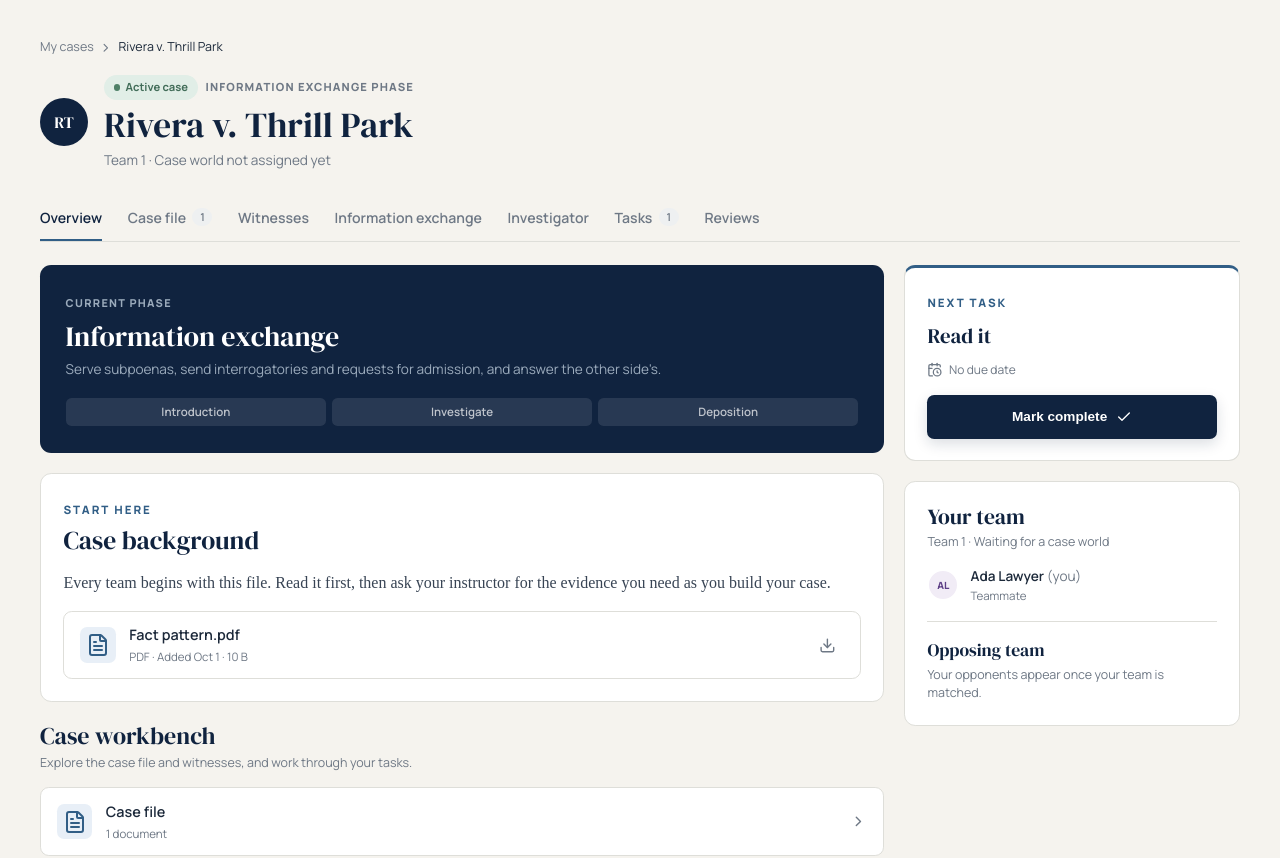
Test: StudentCasePage: review results › drafts › saves a new set as a draft and lists it for the team
The width and height of the screenshot is (1280, 858).
Click the tab "Information exchange" at (408, 218), box left=335, top=196, right=482, bottom=241
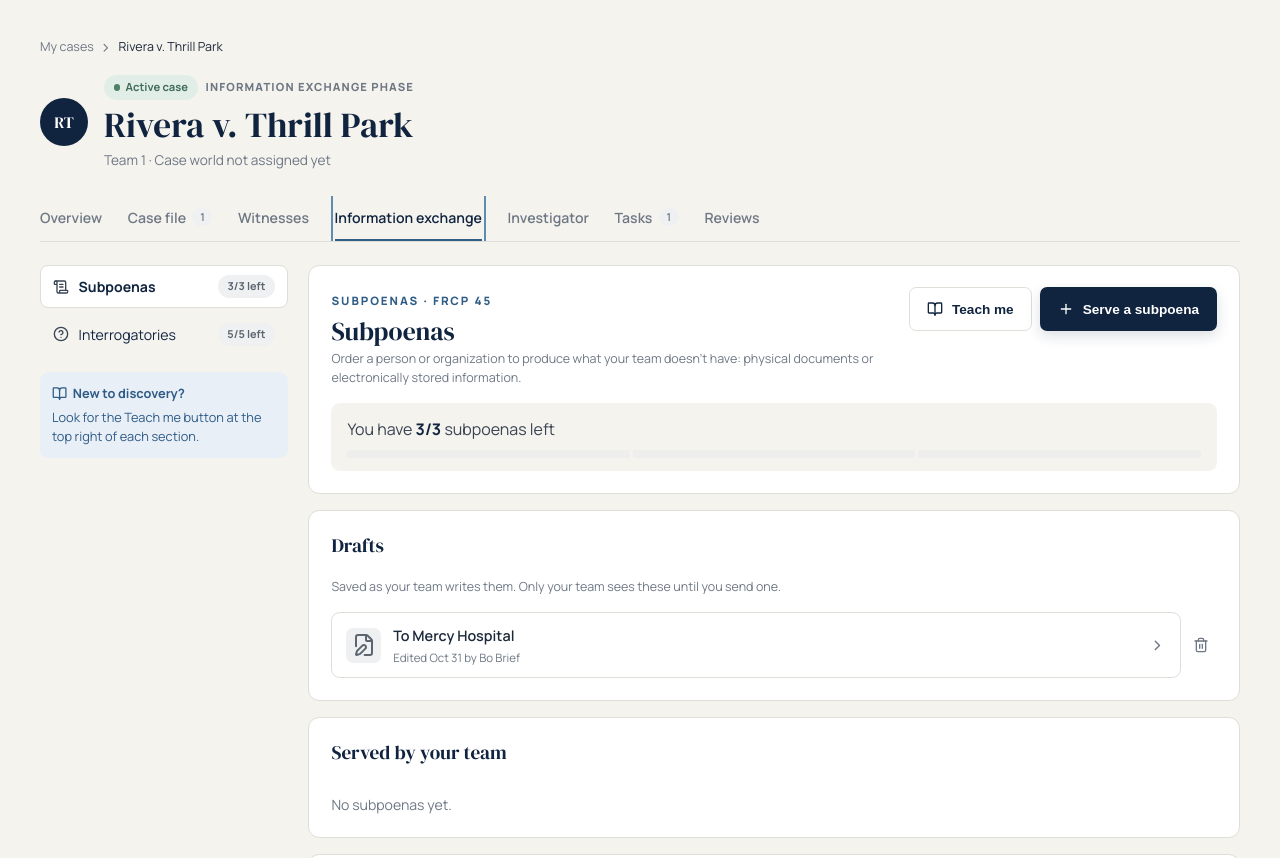
Click the button "Interrogatories 5/5 left" at (164, 334), box left=40, top=312, right=288, bottom=356
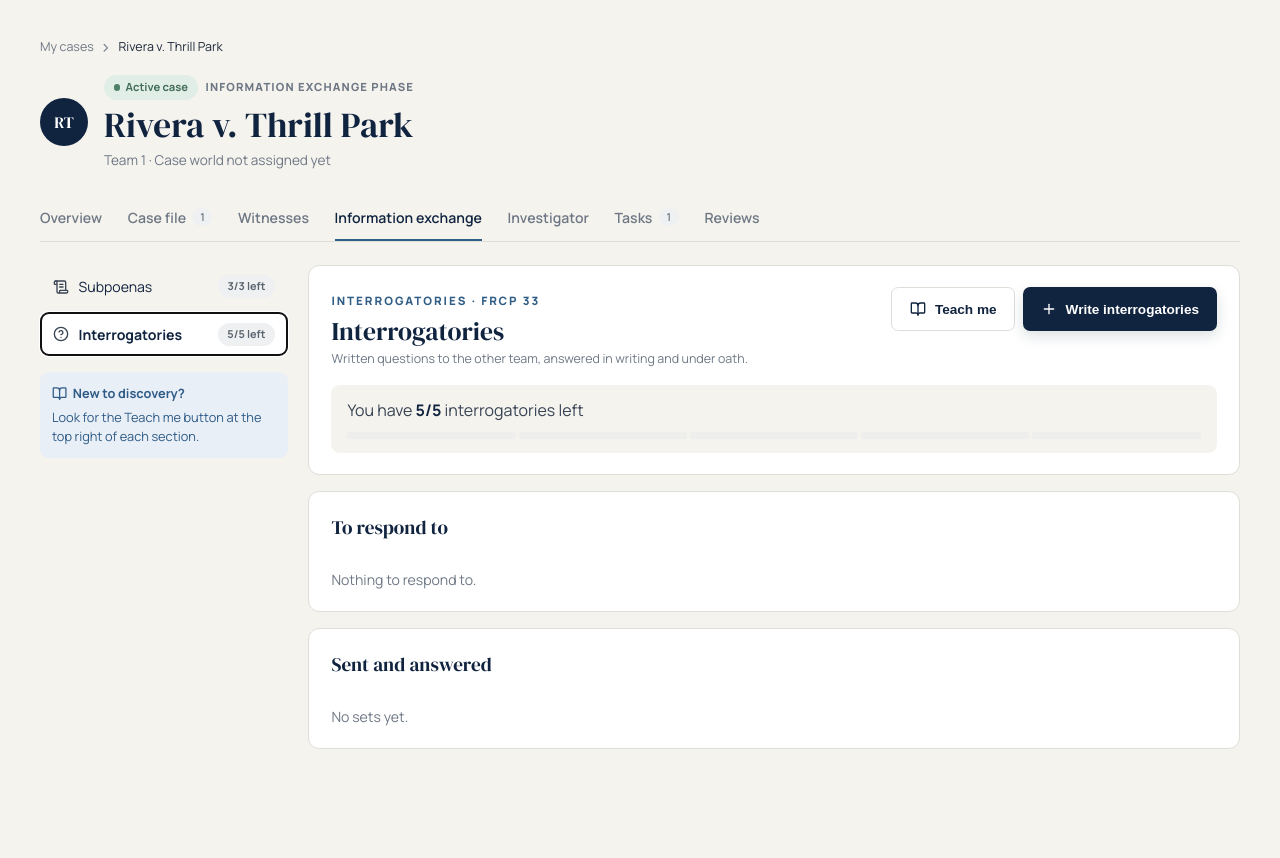
Click the button "Write interrogatories" at (1120, 309), box left=1023, top=287, right=1217, bottom=331
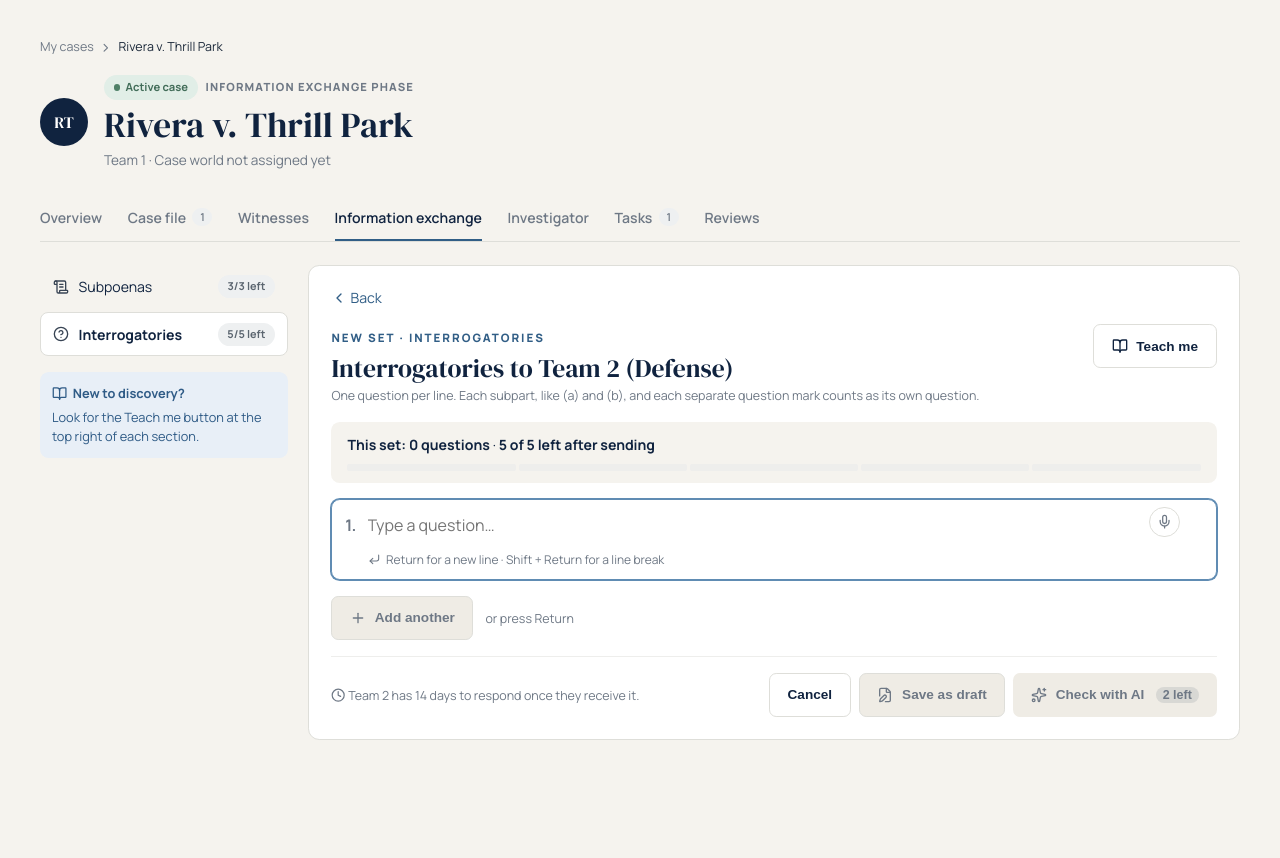
Type "Who inspected it?" into the text box named "Question 1" at (785, 525), box left=368, top=510, right=1203, bottom=539
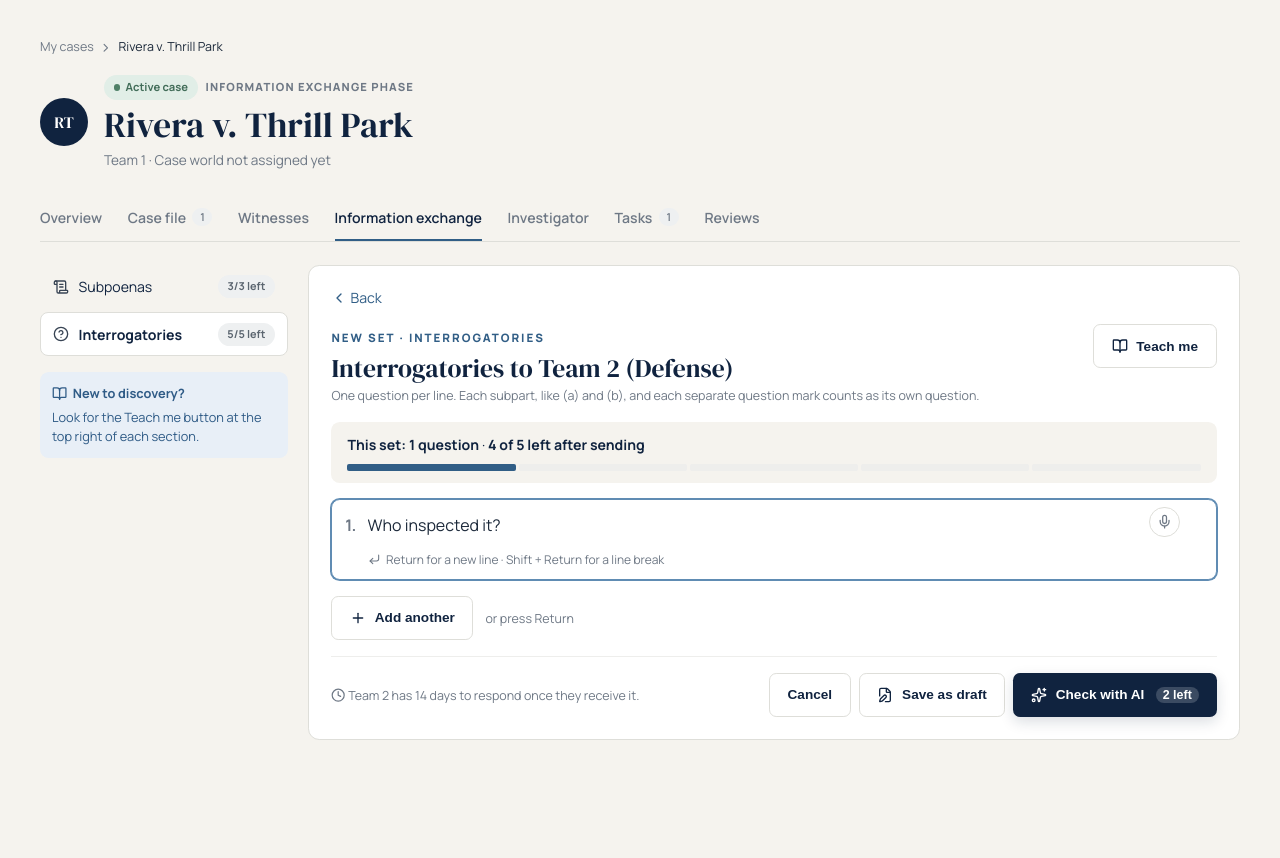
Click the button "Save as draft" at (932, 695), box left=859, top=673, right=1005, bottom=717
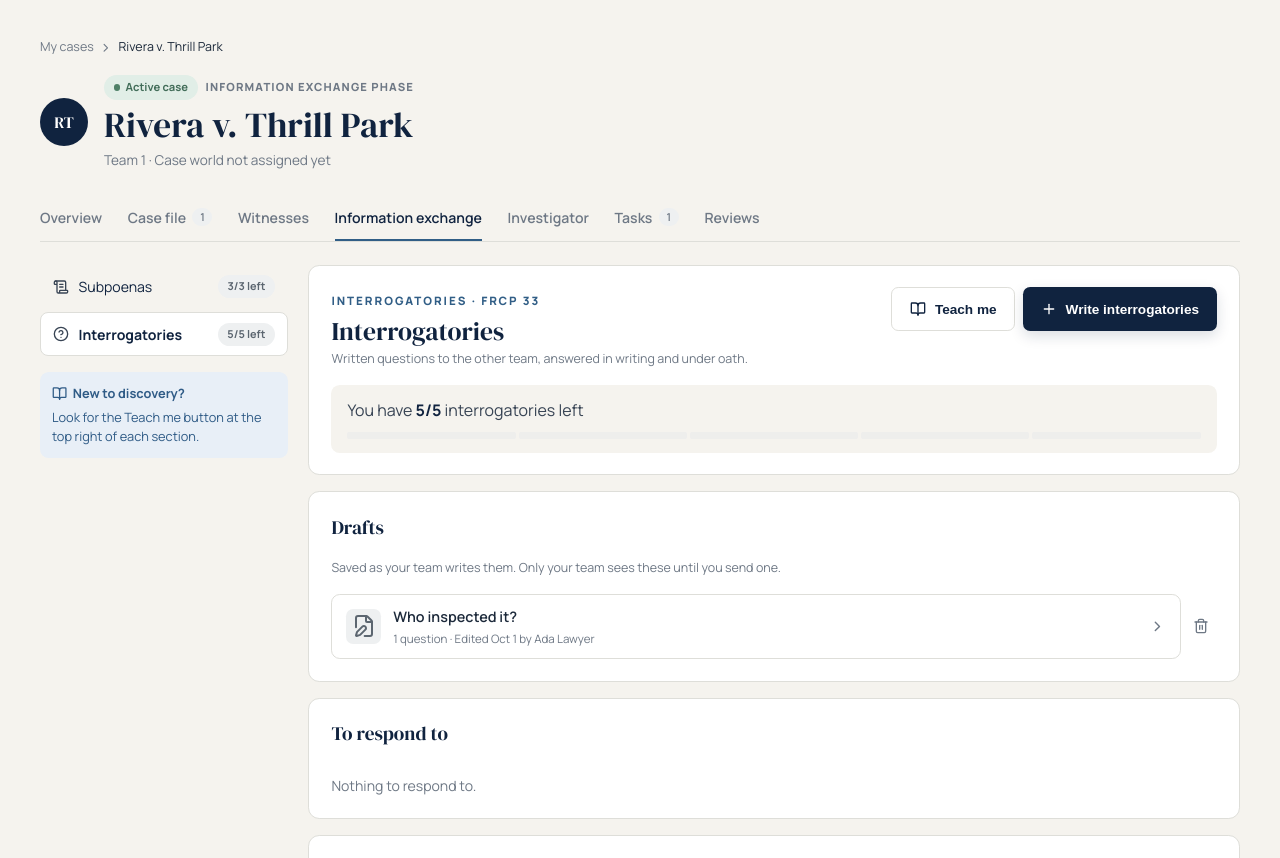
Now the element "Drafts" shows "Who inspected it?", box left=331, top=594, right=1181, bottom=659
